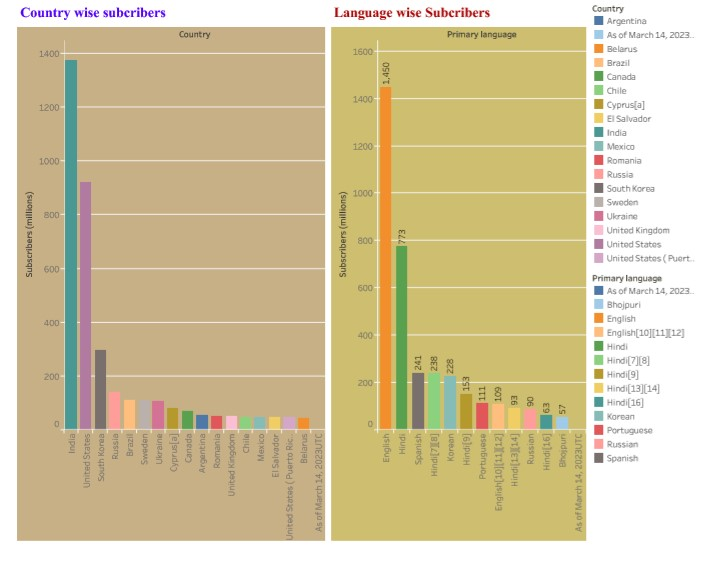

This screenshot's page, from the dashboard's own definition file:
{"tool":"tableau","page":{"name":"Language & Country with Subcribers","canvas":[1000,800],"ordinal":2},"visuals":[{"type":"worksheet","title":"Country wise subscribers","mark":"Automatic","rows":["Subscribers (millions)"],"cols":["Country"],"box":[8,8,450,784]},{"type":"worksheet","title":"Language wise Subcribers","mark":"Automatic","rows":["Subscribers (millions)"],"cols":["Primary language"],"box":[458,8,374,784]},{"type":"legend","title":"Country wise subscribers","param":"[federated.0nqqhxk0poh2551dlh06d1626w2r].[none:Country:nk]","box":[832,8,160,386]},{"type":"legend","title":"Language wise Subcribers","param":"[federated.0nqqhxk0poh2551dlh06d1626w2r].[none:Primary language:nk]","box":[832,394,160,286]}]}

Visuals, with their boxes in screenshot pixels (x1, y1, x2, y2), scaled from the page's 1000x800 canvas onto the 712x581 screenshot:
"Country wise subscribers" worksheet: [6,6,326,575]
"Language wise Subcribers" worksheet: [326,6,592,575]
"Country wise subscribers" legend: [592,6,706,286]
"Language wise Subcribers" legend: [592,286,706,494]
